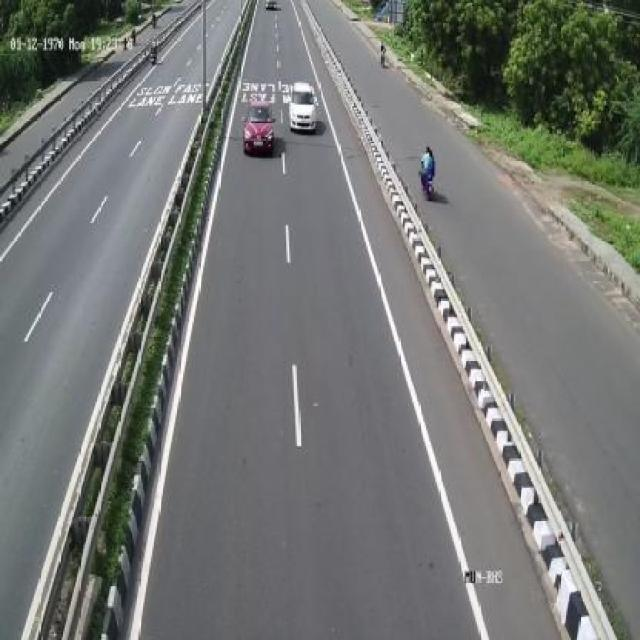car: (243, 85, 280, 160), (291, 78, 320, 136)
